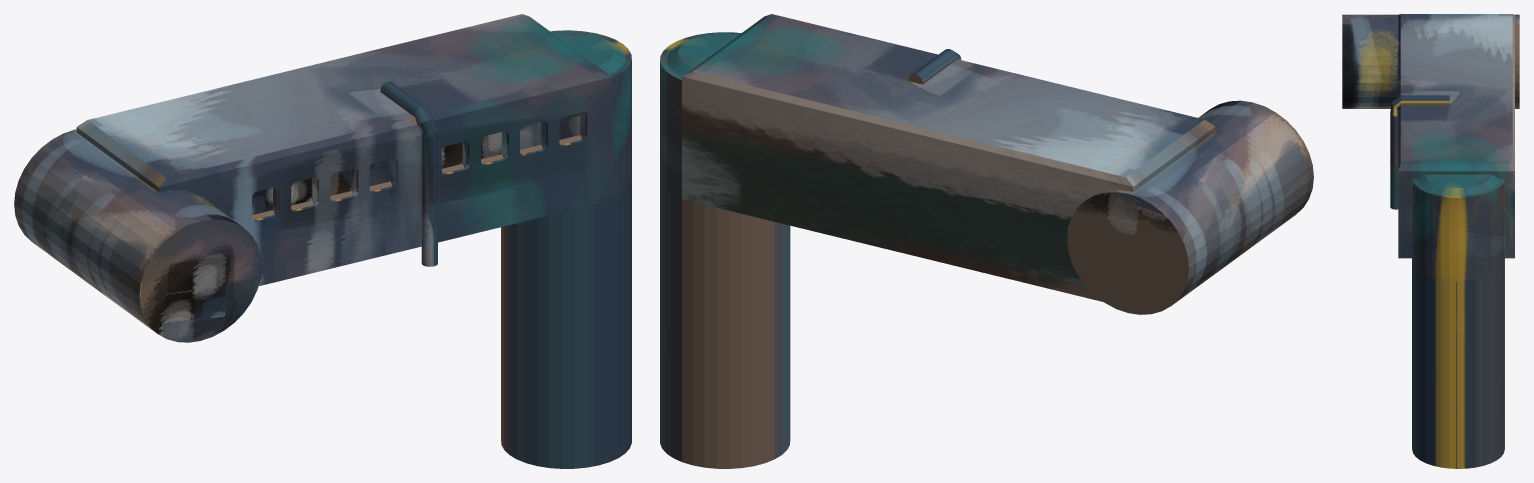
Rendered from LO_attachment.glb.
The picture shows the model from 3 angles, left to right: view 1: azimuth 30°, elevation 25°; view 2: azimuth 150°, elevation 25°; view 3: azimuth 270°, elevation 25°; orthographic projection. The views are drawn at different scales.
Visible parts, largest first — view 1: station_attachment; view 2: station_attachment; view 3: station_attachment.
Part boxes in pixels (x1,y1,x2,y2): station_attachment: [14, 14, 631, 468]; station_attachment: [660, 14, 1313, 468]; station_attachment: [1342, 14, 1519, 468].
Bounding box in the file's own units: 15.28 × 10.57 × 5.87.
1 material, 1 textured.
